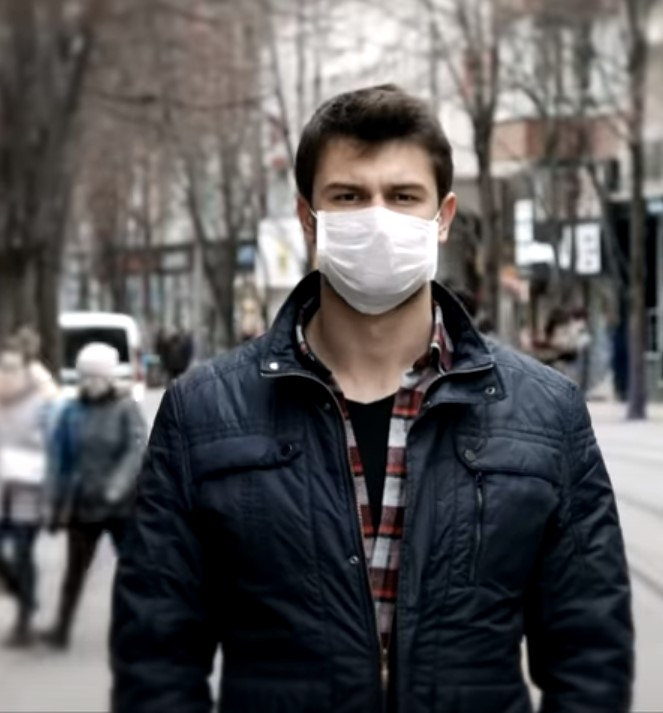face_with_mask: (294, 92, 456, 314)
